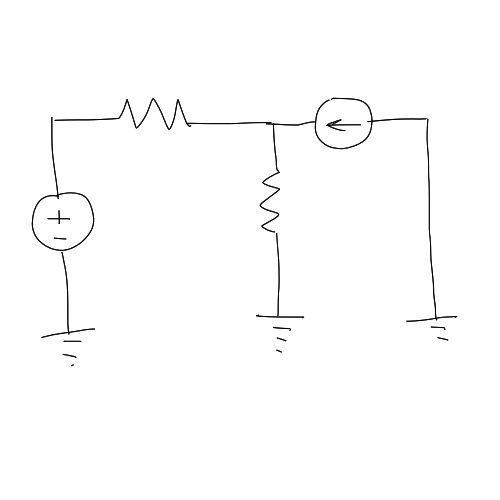dccs: (308, 94, 375, 154)
dcvs: (30, 188, 99, 255)
gnd: (38, 320, 100, 369), (403, 307, 461, 351), (250, 310, 309, 353)
res: (108, 96, 201, 136), (257, 167, 284, 245)
